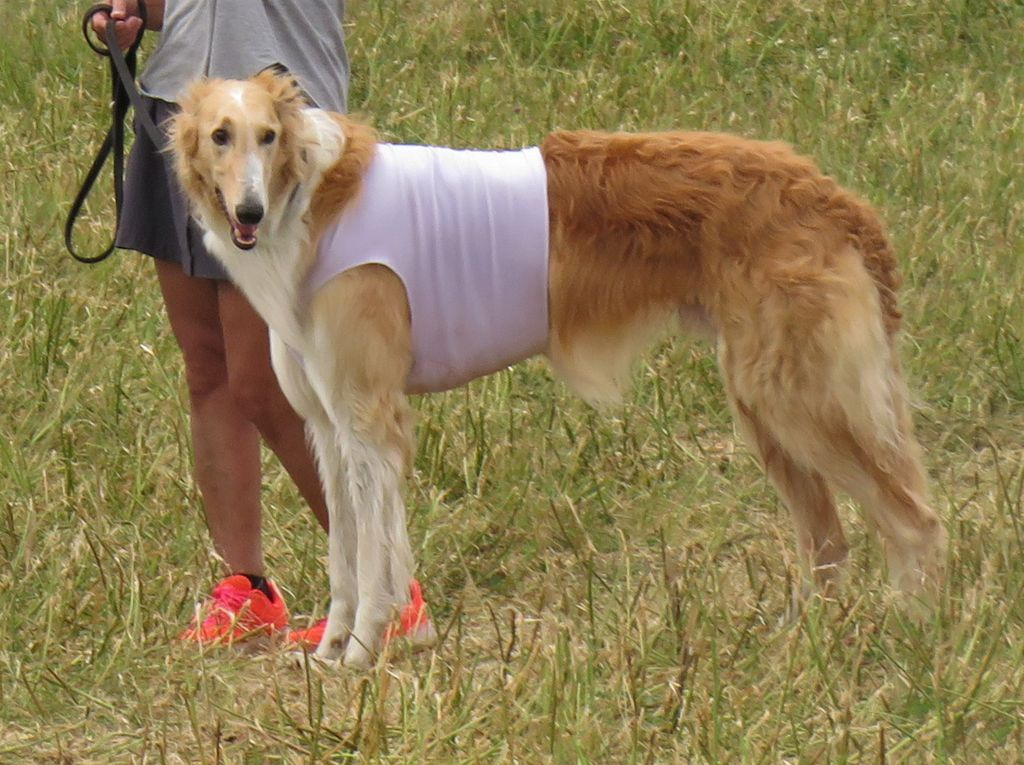borzoi: (146, 69, 971, 666)
